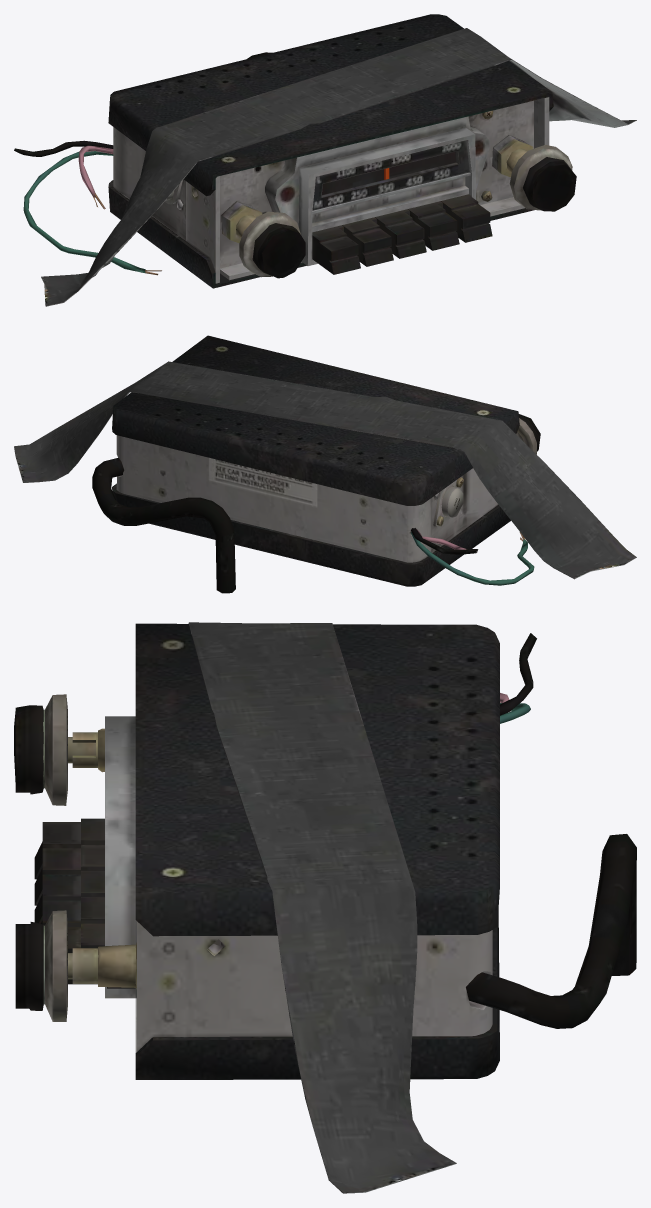
Rendered from carradio.glb.
The picture shows the model from 3 angles, top to bottom: view 1: azimuth 30°, elevation 25°; view 2: azimuth 150°, elevation 25°; view 3: azimuth 270°, elevation 25°; orthographic projection. The views are drawn at different scales.
Parts seen in each view (by area): view 1: CarRadio_LOD0; view 2: CarRadio_LOD0; view 3: CarRadio_LOD0.
Boxes of the visible parts, bbox=[...] form: CarRadio_LOD0: bbox=[14, 14, 636, 306]; CarRadio_LOD0: bbox=[14, 335, 636, 593]; CarRadio_LOD0: bbox=[14, 622, 636, 1193].
Size of the model in its own units: 0.3483 by 0.0693 by 0.1809.
1 material, 1 textured.
